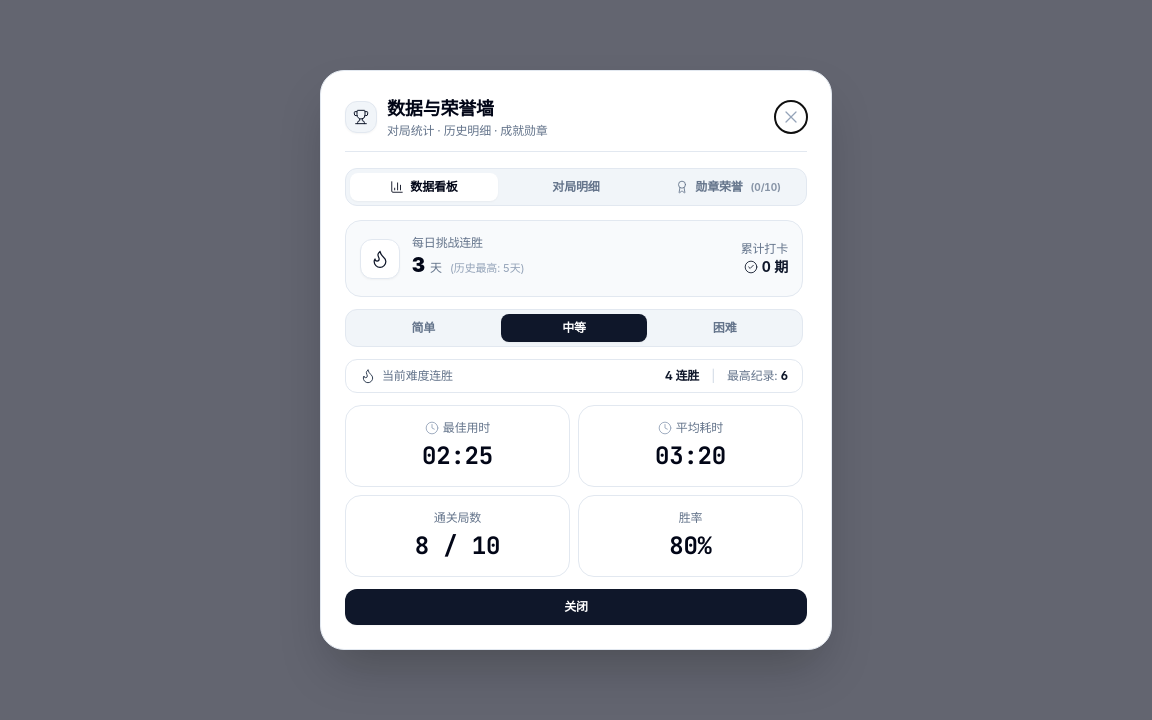
Scenario: Phase 3: Achievements & Statistics Suite › <StatsModal /> Dual-Tab Component › renders stats tab by default and switches difficulties
Check: the heading "数据与荣誉墙" is shown, box [387,98,494,119]
Check: the text "数据看板" is shown, box [410,179,458,195]
# Switch to hard tab
Click the button "困难".
click(725, 328)  # box [651,314,798,342]
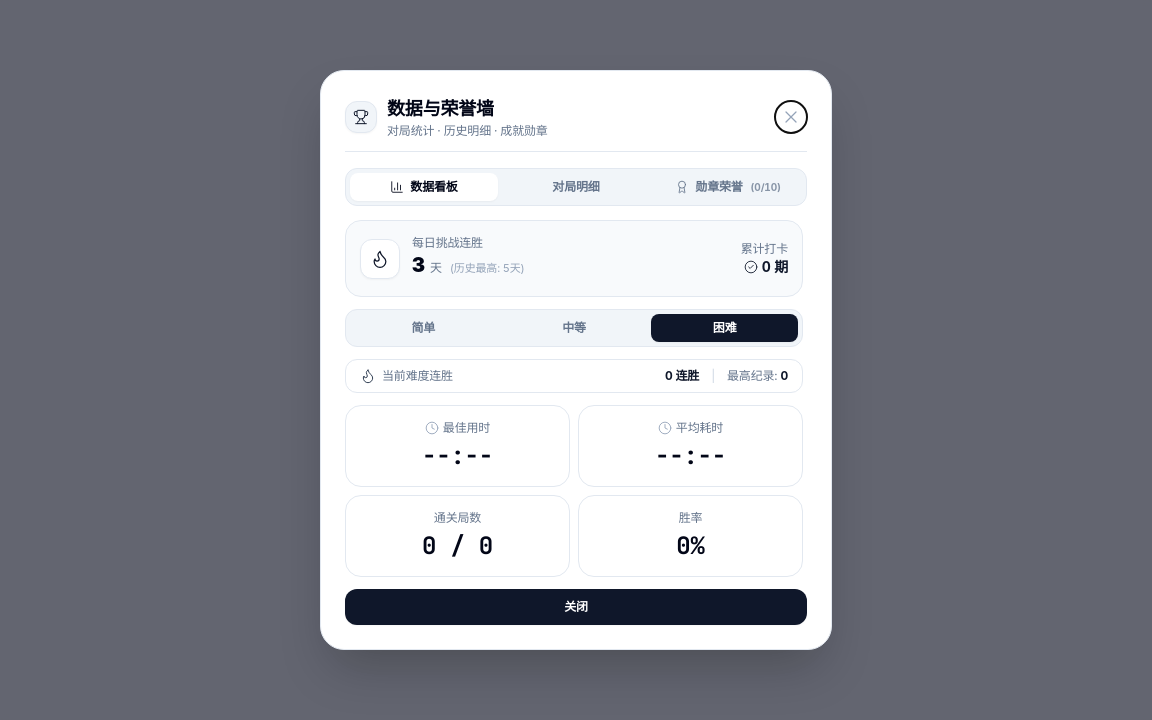
Check: the text "0%" is shown, box [676,530,705,562]
Check: the text "0 / 0" is shown, box [422,530,493,562]
